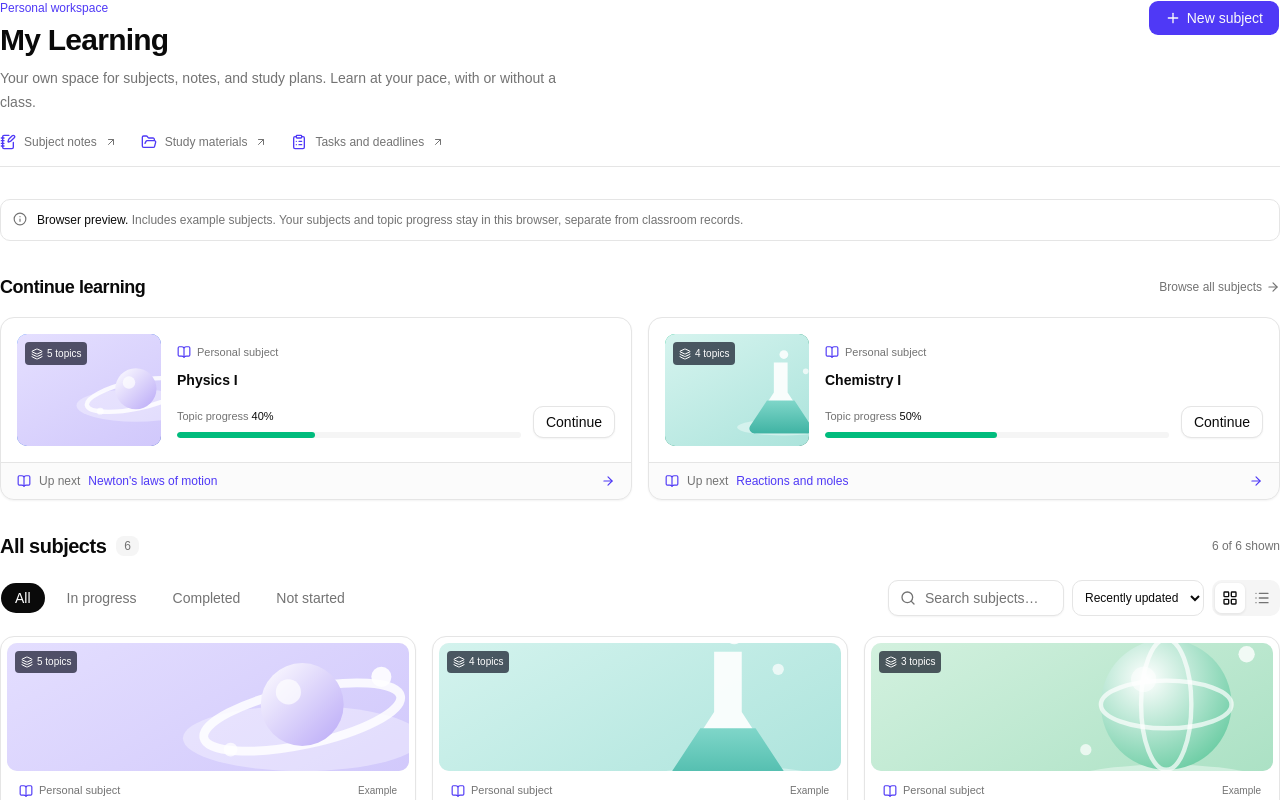
it: SubjectsView › keeps the create modal open when the name is missing
Click the button "New subject".
click(1214, 18)  # box [1148,0,1279,36]
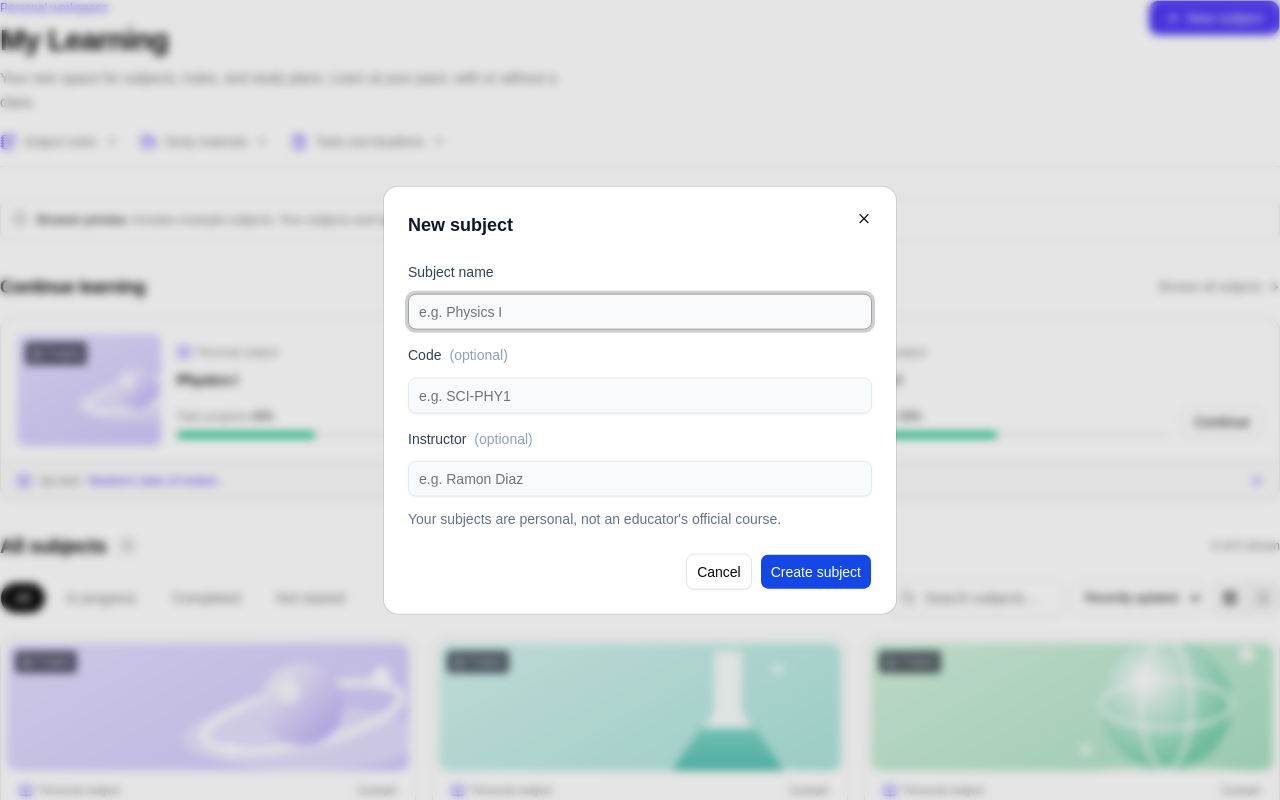
Click the button "Create subject".
click(816, 571)  # box [760,553,872,589]
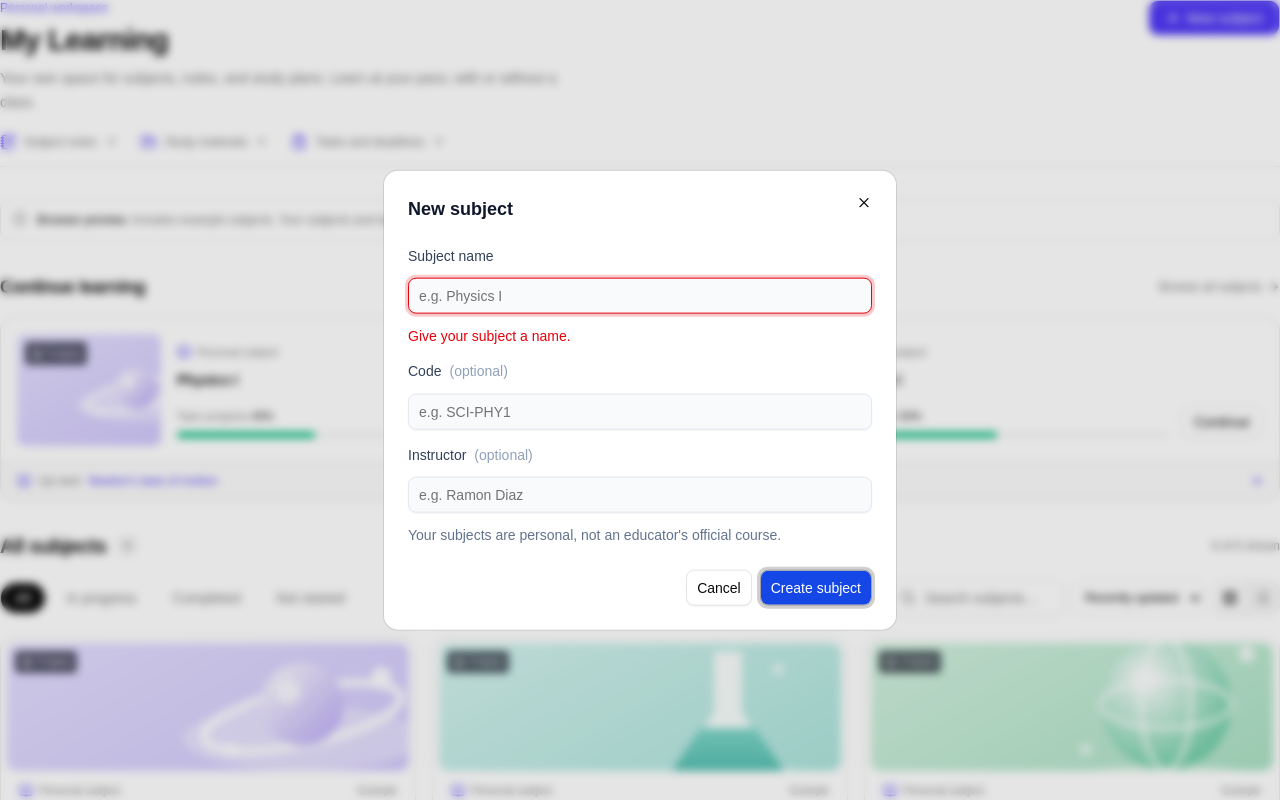
Expected: the dialog is shown, [384,171,896,629]
Expected: the text "Give your subject a name." is shown, [408,328,571,344]
